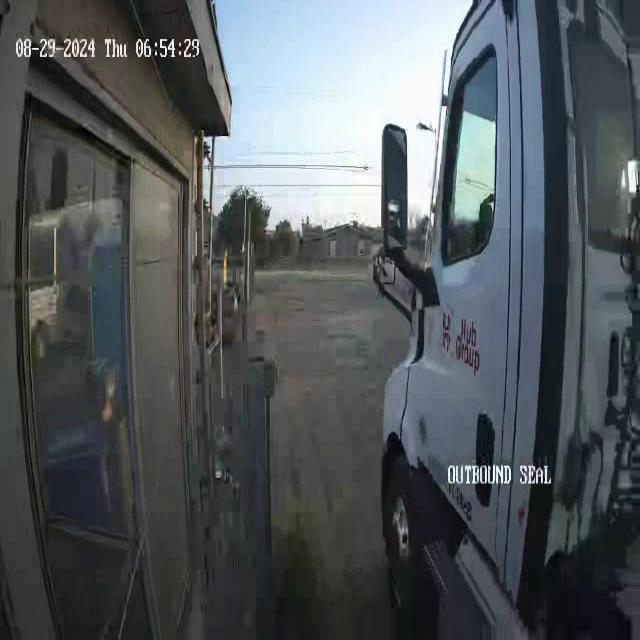TRUCK_OUT: (374, 2, 639, 637)
